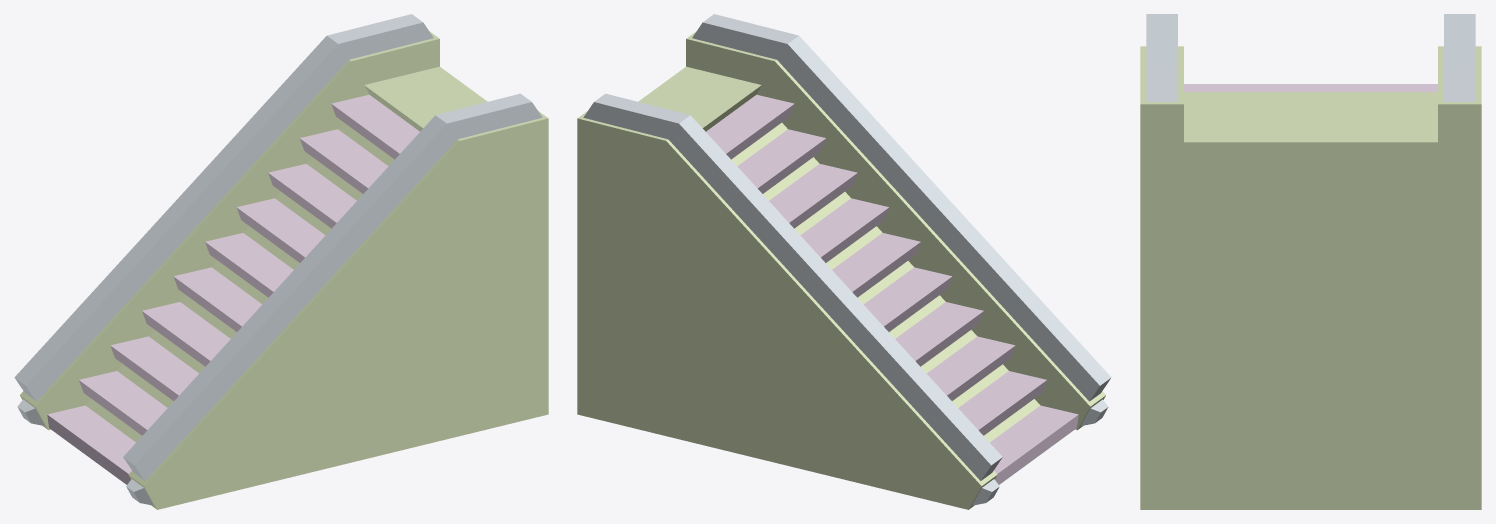
The model's file is Character_Rooms_Stairs.fbx.
3 views of the same model, side by side, from view 1: azimuth 30°, elevation 25°; view 2: azimuth 150°, elevation 25°; view 3: azimuth 270°, elevation 25° (orthographic). The views are drawn at different scales.
Visible parts, largest first — view 1: Walls.003; view 2: Walls.003; view 3: Walls.003.
Part boxes in pixels (x1,y1,x2,y2): Walls.003: (14,14,548,509); Walls.003: (577,14,1111,509); Walls.003: (1140,14,1481,509).
Bounding box in the file's own units: 954 × 696 × 500.
